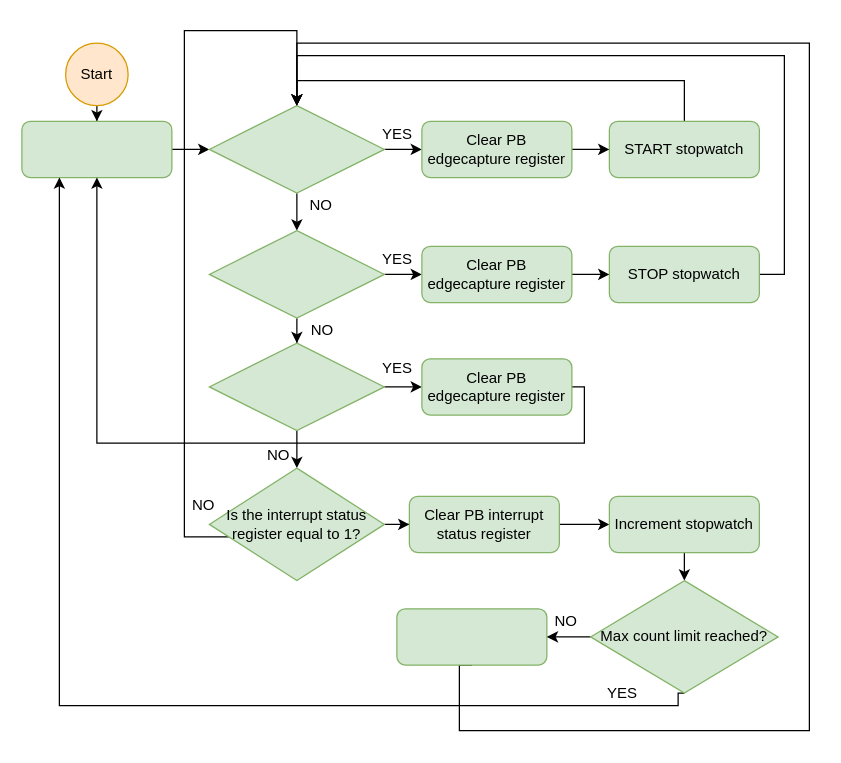
The diagram is 841 pixels wide and 763 high, and some of its shapes have lost their labels. Here are the shapes that lost their labels. From the top down, the box of each, then its label:
(21, 120, 172, 178): RESET stopwatch
(208, 104, 384, 193): PB0 was pressed?
(208, 229, 384, 318): PB1 was pressed?
(208, 342, 384, 431): PB2 was pressed?
(396, 608, 547, 665): Display stopwatch
